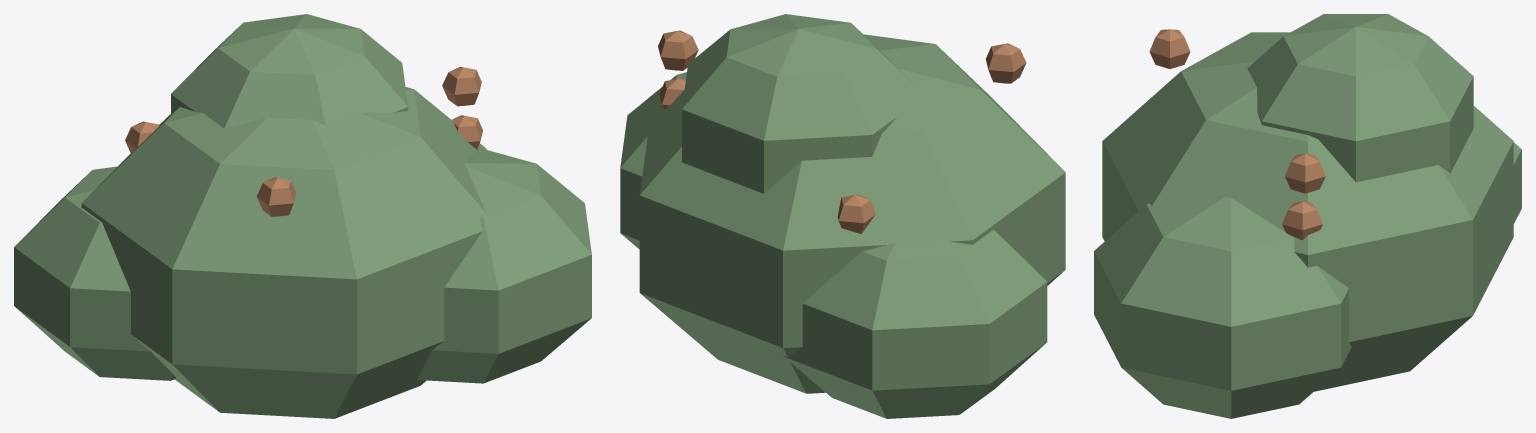
The model's file is wipe-day-survival-island-berry-bush-0694adfc.glb.
The picture shows the model from 3 angles, left to right: view 1: azimuth 30°, elevation 25°; view 2: azimuth 150°, elevation 25°; view 3: azimuth 270°, elevation 25°; orthographic projection. The views are drawn at different scales.
Visible parts, largest first — view 1: berry-bush; view 2: berry-bush; view 3: berry-bush.
Part boxes in pixels (<box>): berry-bush: <box>14,14,591,418</box>; berry-bush: <box>620,14,1065,418</box>; berry-bush: <box>1094,14,1521,418</box>.
Bounding box in the file's own units: 1.12 × 0.801 × 0.8907.
